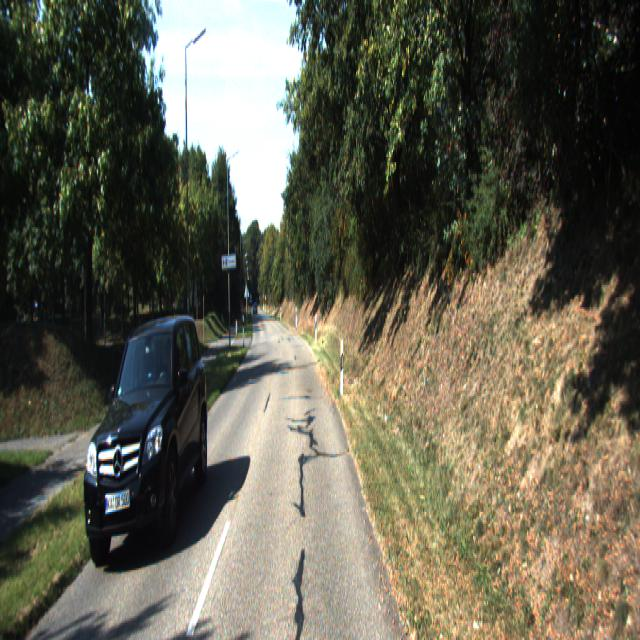Car: (82, 312, 210, 575)
